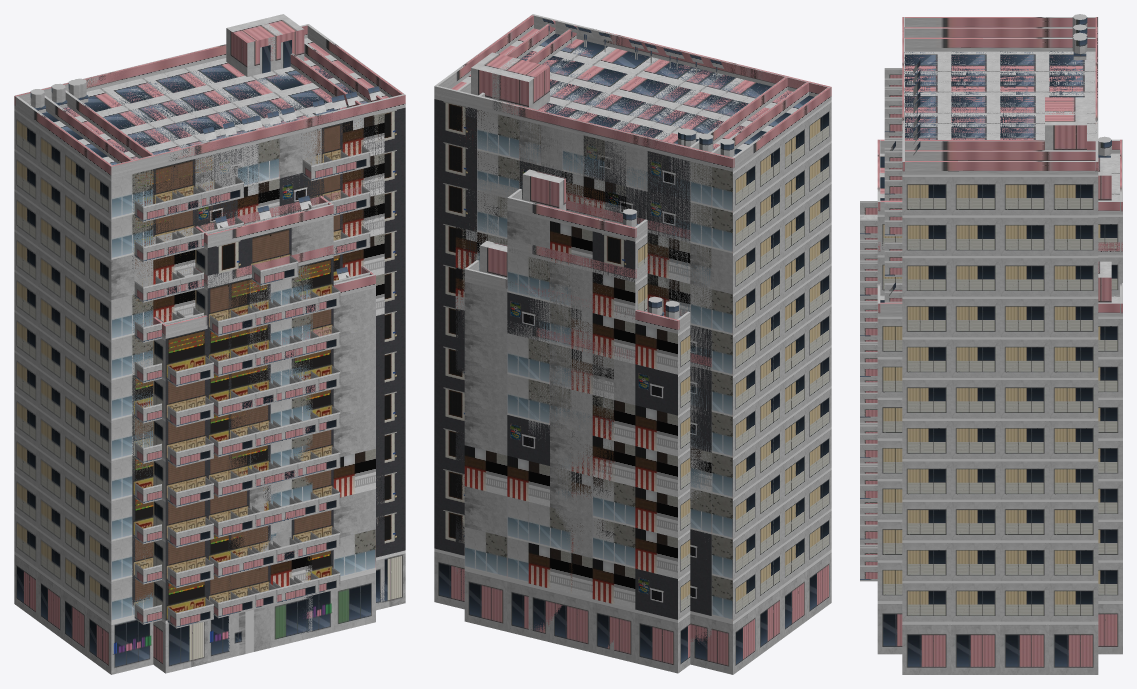
The picture shows the model from 3 angles, left to right: view 1: azimuth 30°, elevation 25°; view 2: azimuth 150°, elevation 25°; view 3: azimuth 270°, elevation 25°; orthographic projection.
Visible parts, largest first — view 1: Modern_7x4_f11_v1, Modern_5x4_f11_v1, Modern_5x5_f7_v0, Modern_6x4_f11_v1, Modern_3x5_f8_v1, Modern_2x5_f8_v0, Modern_3x5_f9_v1, Modern_6x4_f6_v0, Modern_2x5_f8_v1, Modern_5x4_f9_v1; view 2: Modern_7x4_f11_v1, Modern_3x5_f8_v1, Modern_5x5_f7_v0, Modern_5x4_f11_v1, Modern_6x4_f11_v1, Modern_2x5_f8_v0, Modern_3x5_f9_v1, Modern_6x4_f6_v0, Modern_5x4_f9_v1, Modern_3x5_f6_v0; view 3: Modern_7x4_f11_v1, Modern_5x4_f11_v1, Modern_5x5_f7_v0, Modern_6x4_f11_v1, Modern_3x5_f9_v1, Modern_3x5_f8_v1, Modern_2x5_f8_v1, Modern_5x4_f9_v1.
Part boxes in pixels (bbox=[...]): Modern_7x4_f11_v1: bbox=[14, 24, 405, 674]; Modern_5x4_f11_v1: bbox=[63, 20, 370, 324]; Modern_5x5_f7_v0: bbox=[153, 266, 375, 673]; Modern_6x4_f11_v1: bbox=[42, 14, 384, 383]; Modern_3x5_f8_v1: bbox=[195, 245, 340, 662]; Modern_2x5_f8_v0: bbox=[228, 252, 312, 657]; Modern_3x5_f9_v1: bbox=[195, 195, 333, 603]; Modern_6x4_f6_v0: bbox=[132, 311, 384, 624]; Modern_2x5_f8_v1: bbox=[273, 290, 319, 602]; Modern_5x4_f9_v1: bbox=[153, 186, 370, 322]; Modern_7x4_f11_v1: bbox=[434, 14, 831, 674]; Modern_3x5_f8_v1: bbox=[507, 239, 647, 662]; Modern_5x5_f7_v0: bbox=[464, 241, 690, 673]; Modern_5x4_f11_v1: bbox=[477, 25, 788, 242]; Modern_6x4_f11_v1: bbox=[455, 19, 808, 369]; Modern_2x5_f8_v0: bbox=[528, 244, 613, 657]; Modern_3x5_f9_v1: bbox=[507, 169, 647, 282]; Modern_6x4_f6_v0: bbox=[455, 296, 711, 644]; Modern_5x4_f9_v1: bbox=[477, 178, 690, 316]; Modern_3x5_f6_v0: bbox=[507, 321, 635, 363]; Modern_7x4_f11_v1: bbox=[884, 14, 1098, 674]; Modern_5x4_f11_v1: bbox=[884, 35, 1098, 236]; Modern_5x5_f7_v0: bbox=[877, 261, 1122, 654]; Modern_6x4_f11_v1: bbox=[884, 24, 1098, 301]; Modern_3x5_f9_v1: bbox=[860, 136, 1122, 546]; Modern_3x5_f8_v1: bbox=[860, 239, 1122, 581]; Modern_2x5_f8_v1: bbox=[860, 252, 877, 565]; Modern_5x4_f9_v1: bbox=[884, 242, 902, 302].
Size of the model in its own units: 24.5 by 42.1 by 18.75.
Materials: 1 (1 with a texture image).
